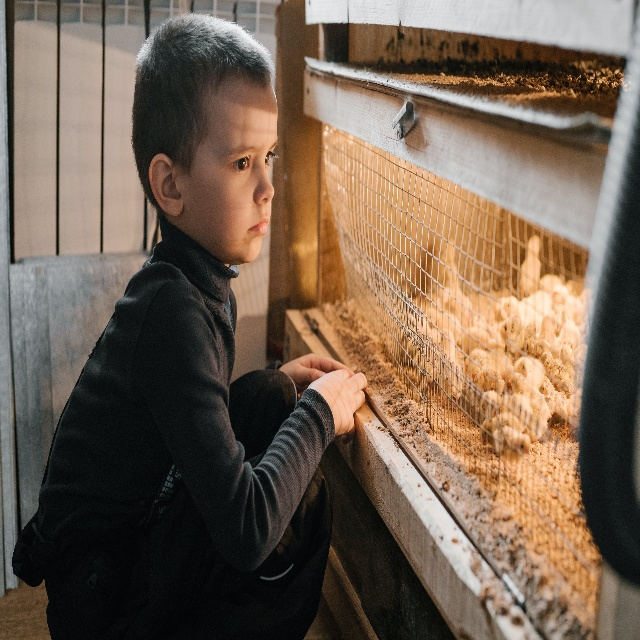Sin_guantes: (309, 368, 368, 445), (279, 352, 354, 393)
